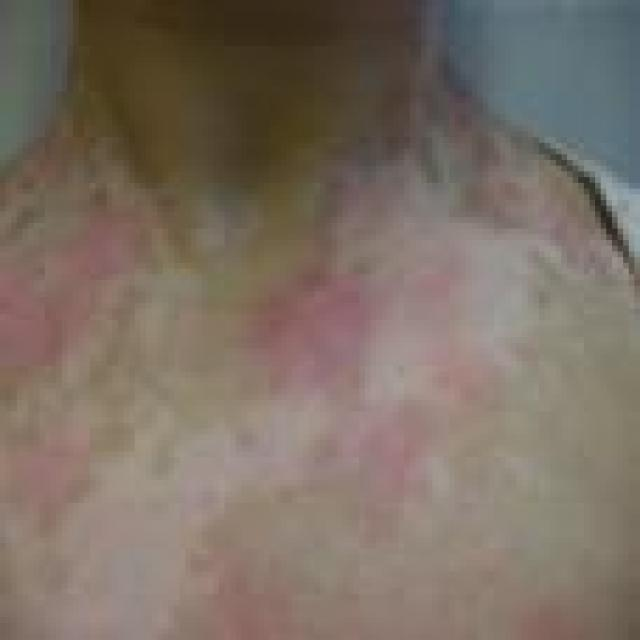Melasma: (0, 132, 594, 634)
